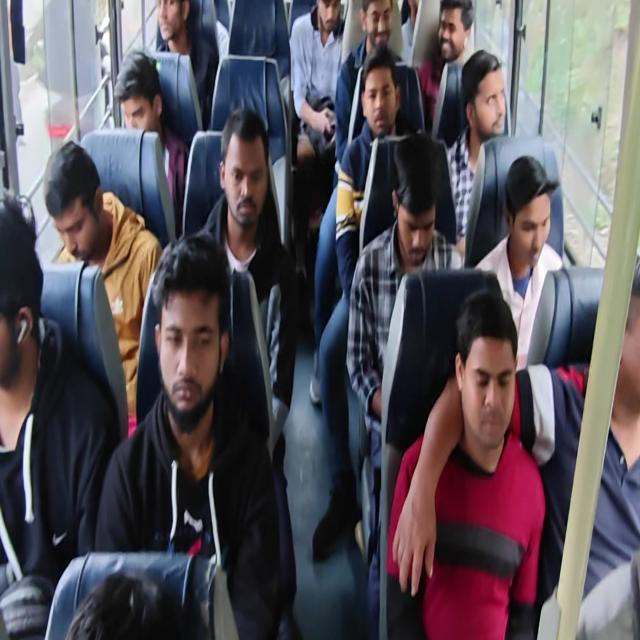person: (143, 228, 228, 433), (55, 555, 197, 640), (452, 292, 523, 443), (1, 178, 44, 396), (41, 137, 108, 267), (390, 126, 439, 269), (502, 154, 555, 285), (216, 100, 268, 226), (112, 49, 170, 130), (612, 248, 640, 414), (461, 50, 513, 137), (356, 52, 398, 137), (150, 0, 202, 49), (440, 2, 478, 54), (362, 4, 400, 52), (316, 3, 350, 29), (408, 4, 424, 23)
